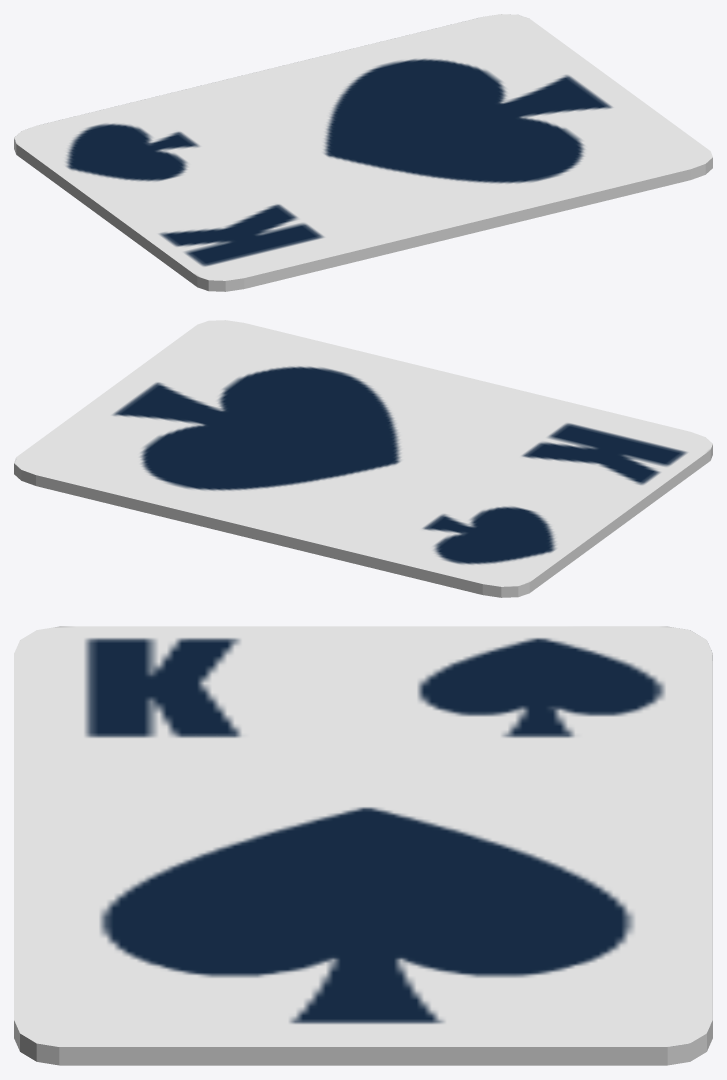
Rendered from KingCard.fbx.
The picture shows the model from 3 angles, top to bottom: view 1: azimuth 30°, elevation 25°; view 2: azimuth 150°, elevation 25°; view 3: azimuth 270°, elevation 25°; orthographic projection. The views are drawn at different scales.
Parts seen in each view (by area): view 1: CardKing; view 2: CardKing; view 3: CardKing.
Boxes of the visible parts, x1=… form: CardKing: x1=14, y1=14, x2=712, y2=291; CardKing: x1=14, y1=320, x2=712, y2=597; CardKing: x1=14, y1=626, x2=712, y2=1065.
Size of the model in its own units: 109 by 2.22 by 76.51.
2 materials, 1 textured.
